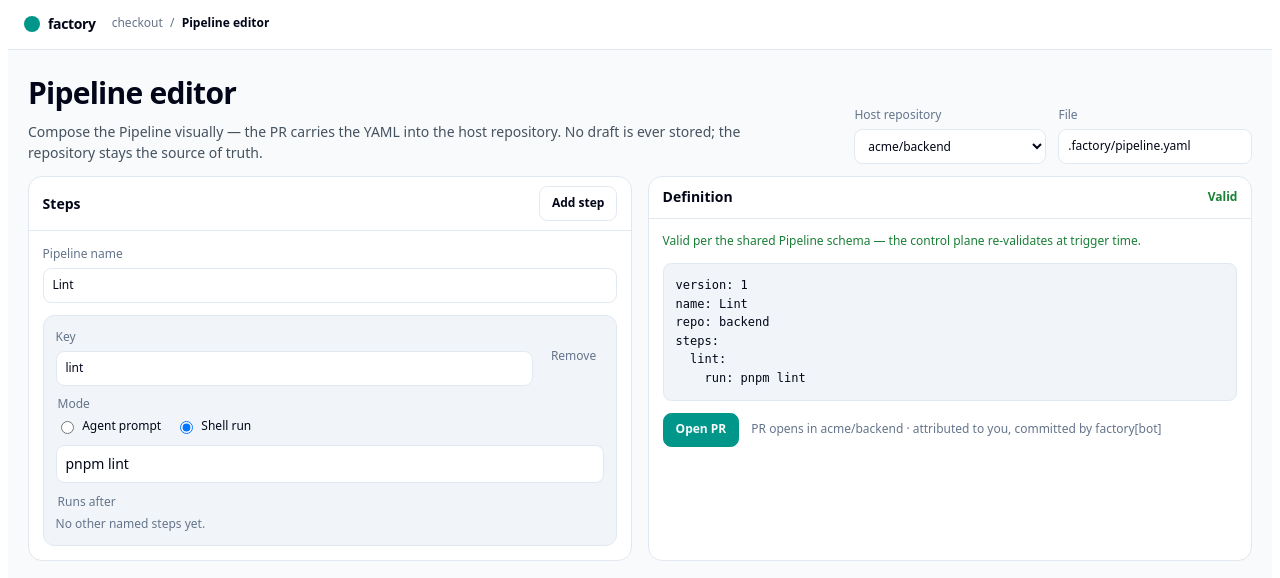
Test: PipelineEditor › surfaces a rejected PR with the control plane's message
This screenshot has width=1280, height=578.
expect the dropdown labelled "Host repository" is shown: met, box [854,130,1046,164]
Click the button "Open PR". click: x=701, y=430
box: [663,412,739,447]
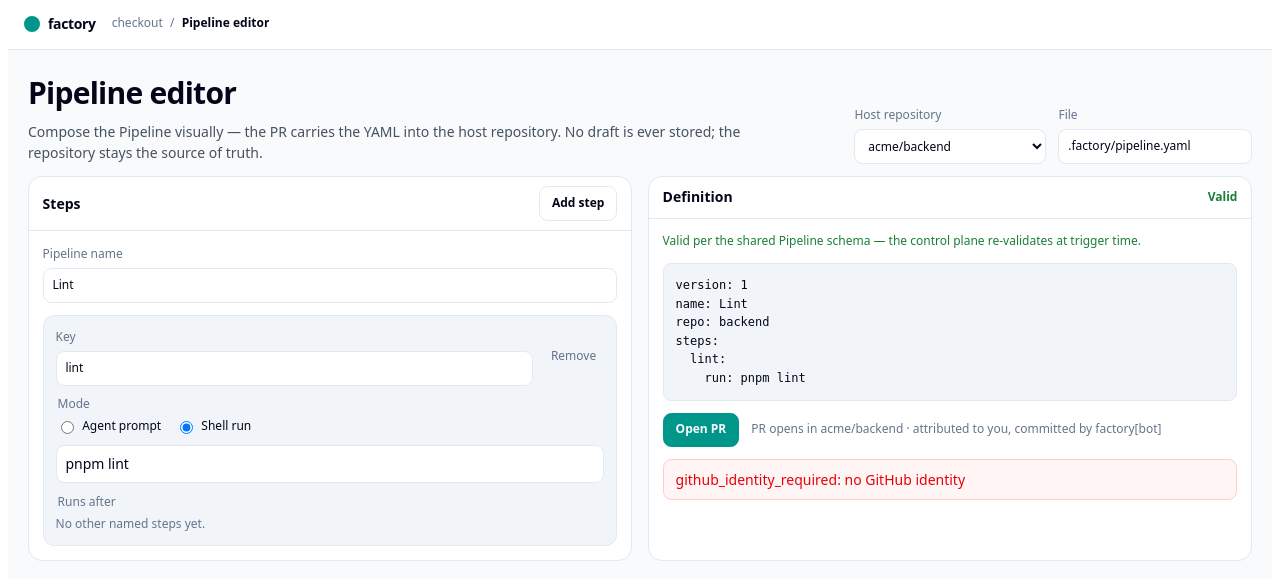
expect the message shows "github_identity_required": met, box [676,470,965,489]
